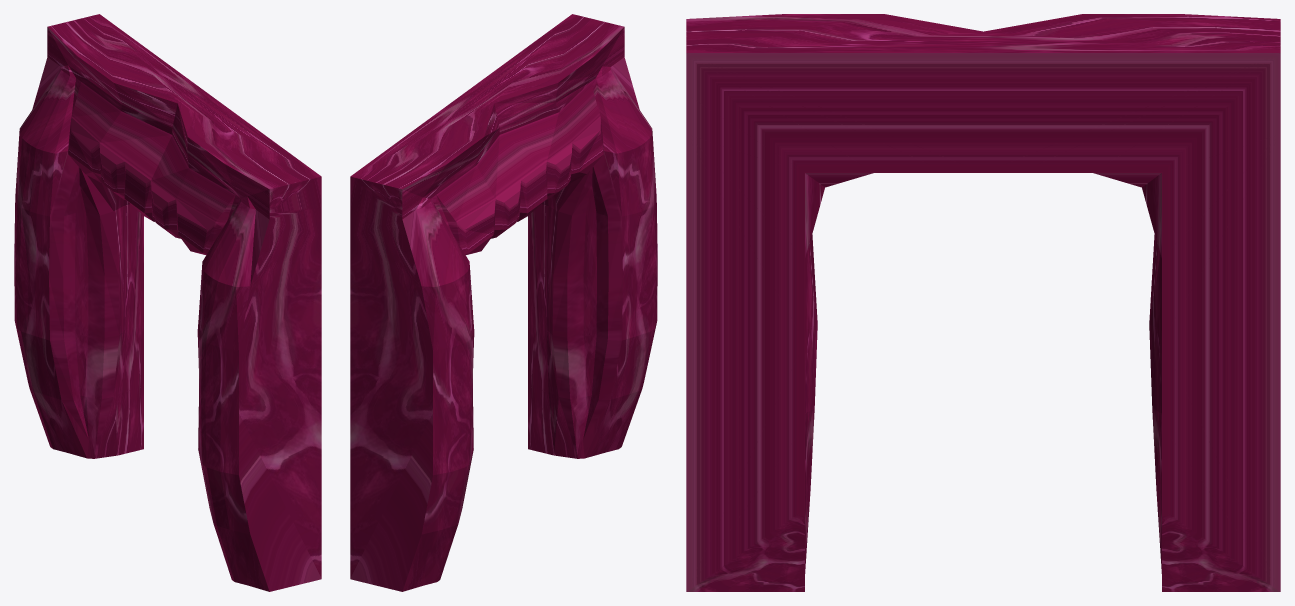
File: EspacioPornoPuertaInteriorAltoNI.gltf
3 renders of one model, left to right at view 1: azimuth 30°, elevation 25°; view 2: azimuth 150°, elevation 25°; view 3: azimuth 270°, elevation 25°, orthographic. The views are drawn at different scales.
Visible parts, largest first — view 1: Cubo.10; view 2: Cubo.10; view 3: Cubo.10.
Boxes of the visible parts, x1,y1,x2,y2 form: Cubo.10: (14, 14, 321, 591); Cubo.10: (350, 14, 657, 591); Cubo.10: (686, 14, 1280, 591).
Bounding box in the file's own units: 0.5207 × 2 × 2.
1 material, 1 textured.
